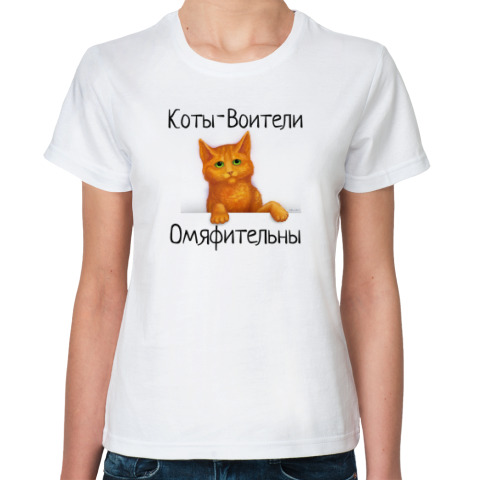cat: (191, 127, 267, 189)
